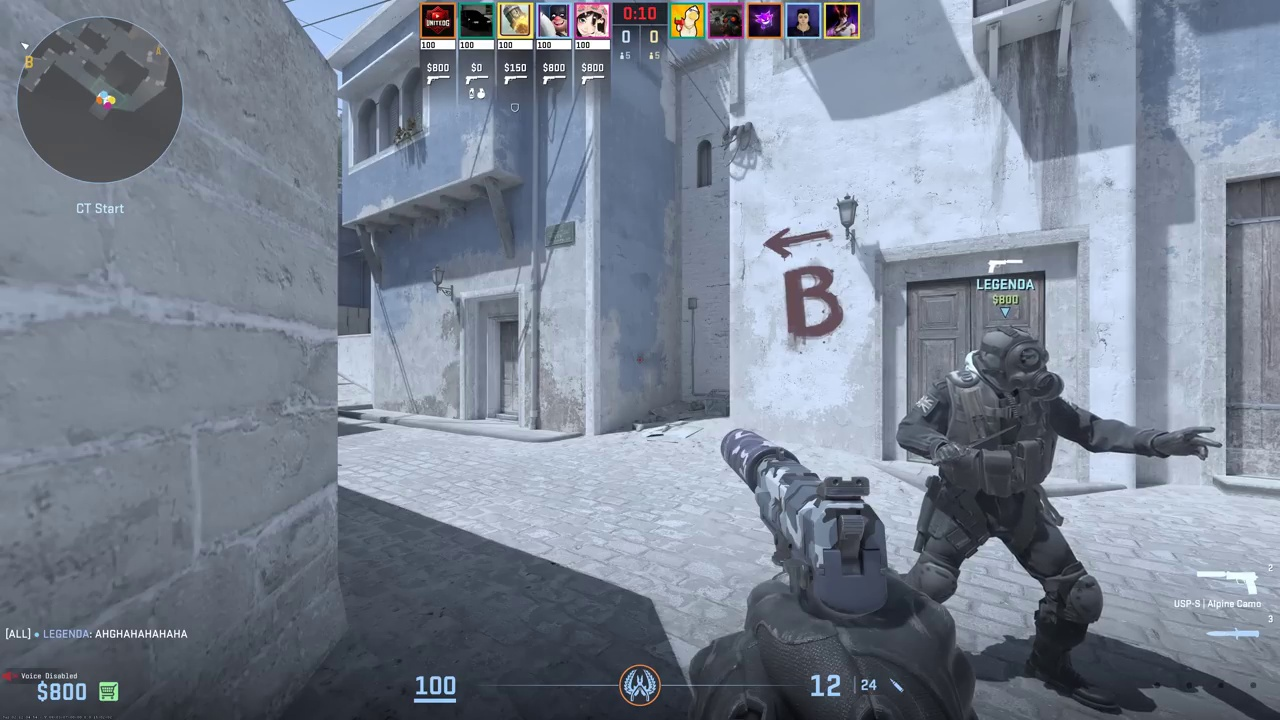CT: (924, 326, 1087, 699)
